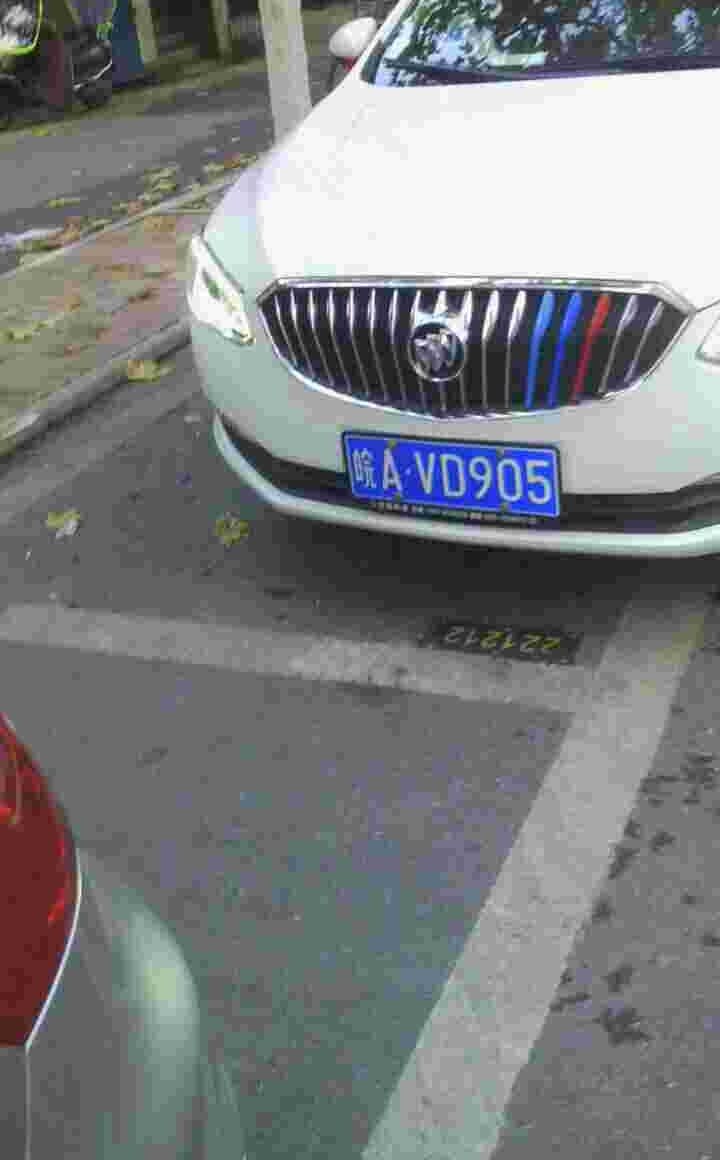license_plate: (338, 438, 563, 525)
